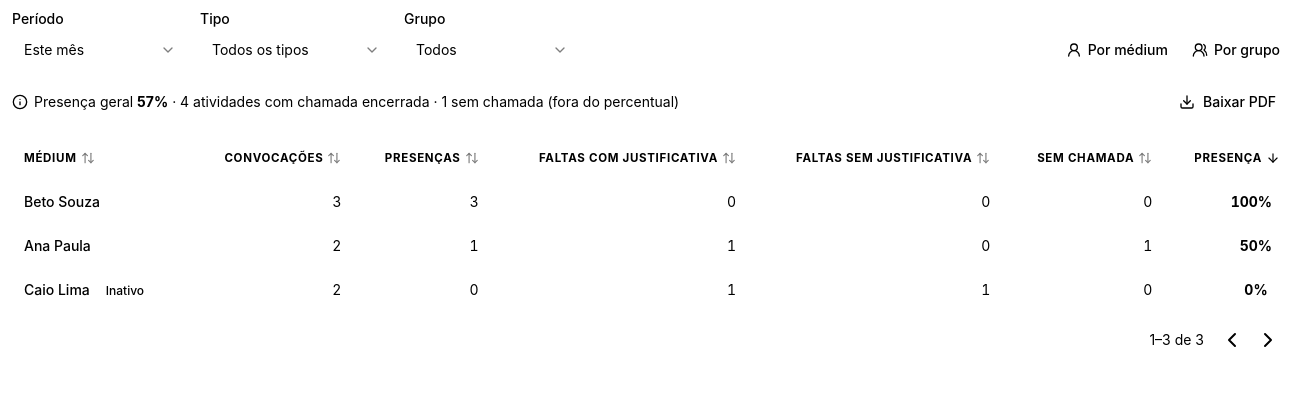
Scenario: Relatório de assiduidade — por grupo › sem o plano escalas: PlanLocked com o plano mínimo do catálogo e sem buscar por grupo
Expected: the text "Ana Paula" is shown, [24, 237, 91, 254]
Click the radio button labelled "Por grupo": (1236, 50) [1180, 32, 1292, 68]
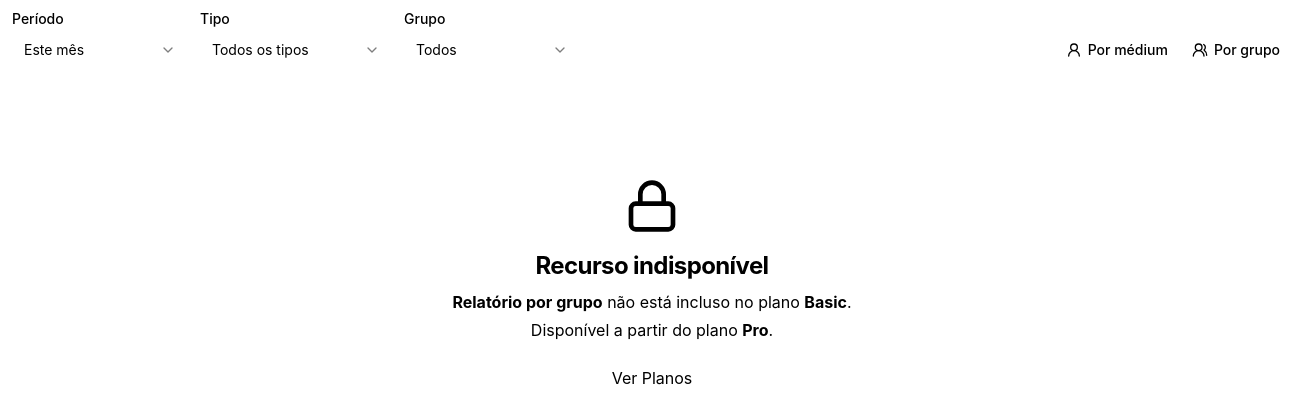
Expected: the text "Relatório por grupo" is shown, [452, 292, 603, 312]
Expected: the text "Pro" is shown, [742, 320, 768, 340]
Expected: the button "Baixar PDF" is gone
